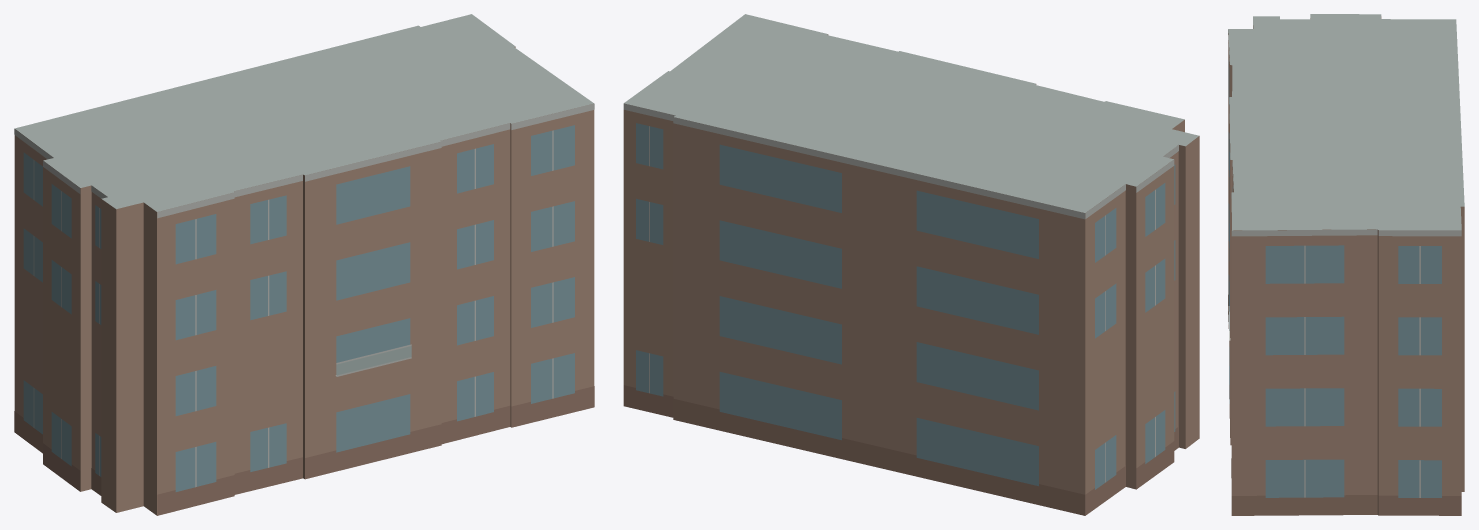
File: survey-upis-32841623.glb
3 views of the same model, side by side, from view 1: azimuth 30°, elevation 25°; view 2: azimuth 150°, elevation 25°; view 3: azimuth 270°, elevation 25° (orthographic). The views are drawn at different scales.
Visible parts, largest first — view 1: survey-upis-32841623.tmp; view 2: survey-upis-32841623.tmp; view 3: survey-upis-32841623.tmp.
Boxes of the visible parts, x1,y1,x2,y2 form: survey-upis-32841623.tmp: [14, 14, 594, 515]; survey-upis-32841623.tmp: [623, 14, 1199, 515]; survey-upis-32841623.tmp: [1228, 14, 1464, 515].
Size of the model in its own units: 19.04 by 11.7 by 8.79.
